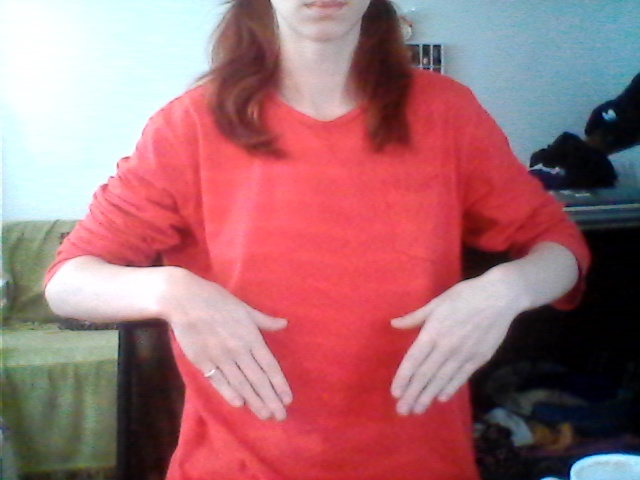zena: (144, 243, 499, 438)
